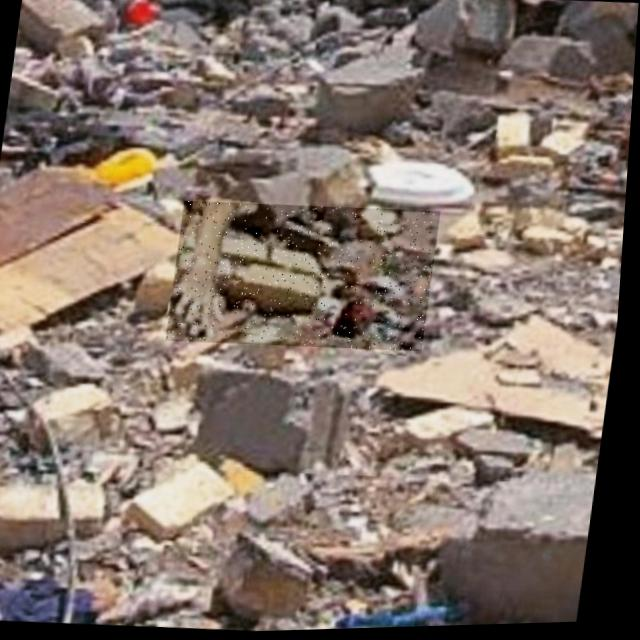Person in Rubble: (169, 195, 444, 360)
